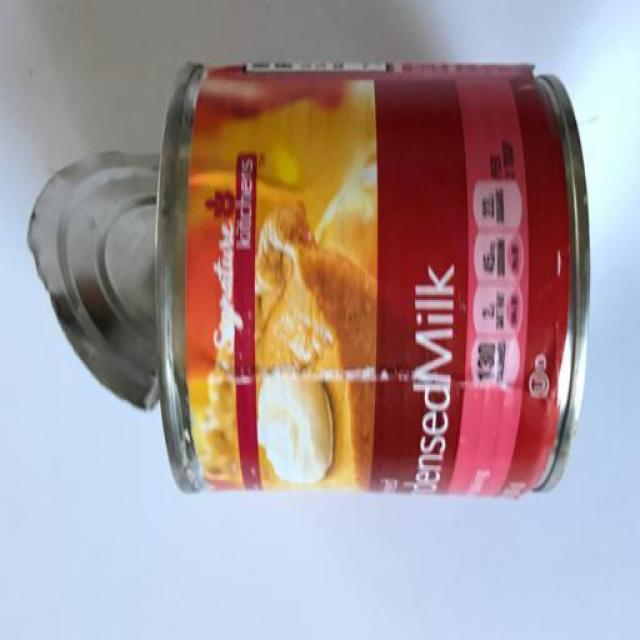metel: (30, 32, 601, 520)
